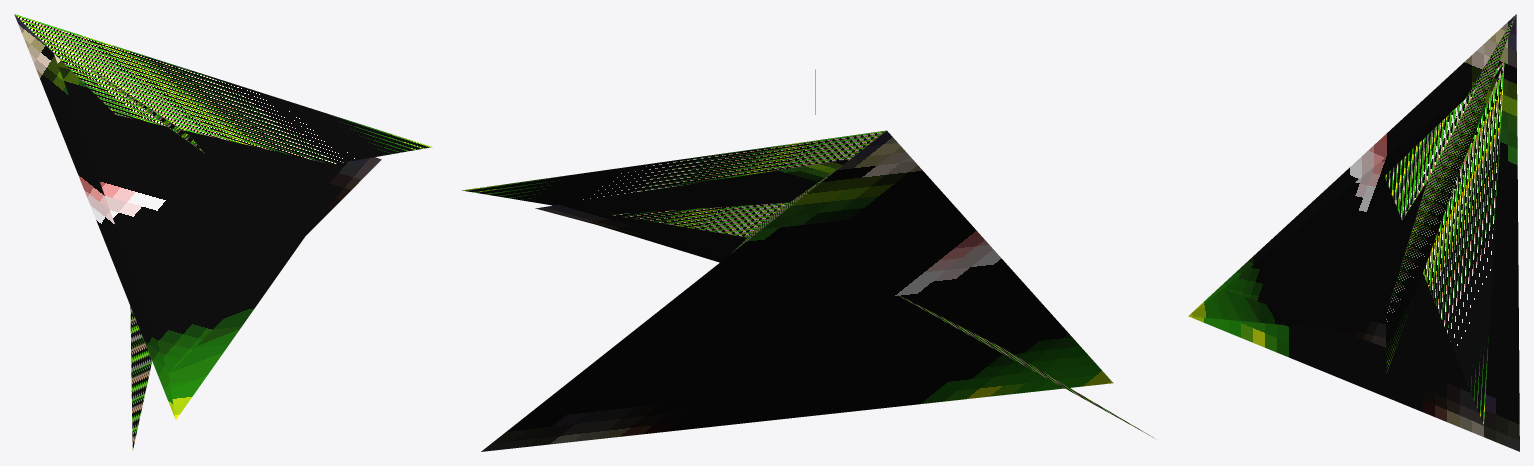
Rendered from assets0A_model_028.obj.
The picture shows the model from 3 angles, left to right: view 1: azimuth 30°, elevation 25°; view 2: azimuth 150°, elevation 25°; view 3: azimuth 270°, elevation 25°; orthographic projection. The views are drawn at different scales.
Visible parts, largest first — view 1: assets0A_model_028; view 2: assets0A_model_028; view 3: assets0A_model_028.
Part boxes in pixels (<box>): assets0A_model_028: <box>14,14,432,450</box>; assets0A_model_028: <box>461,69,1156,451</box>; assets0A_model_028: <box>1188,14,1519,451</box>.
Size of the model in its own units: 12.28 by 9.75 by 8.74.
Materials: 1 (1 with a texture image).
